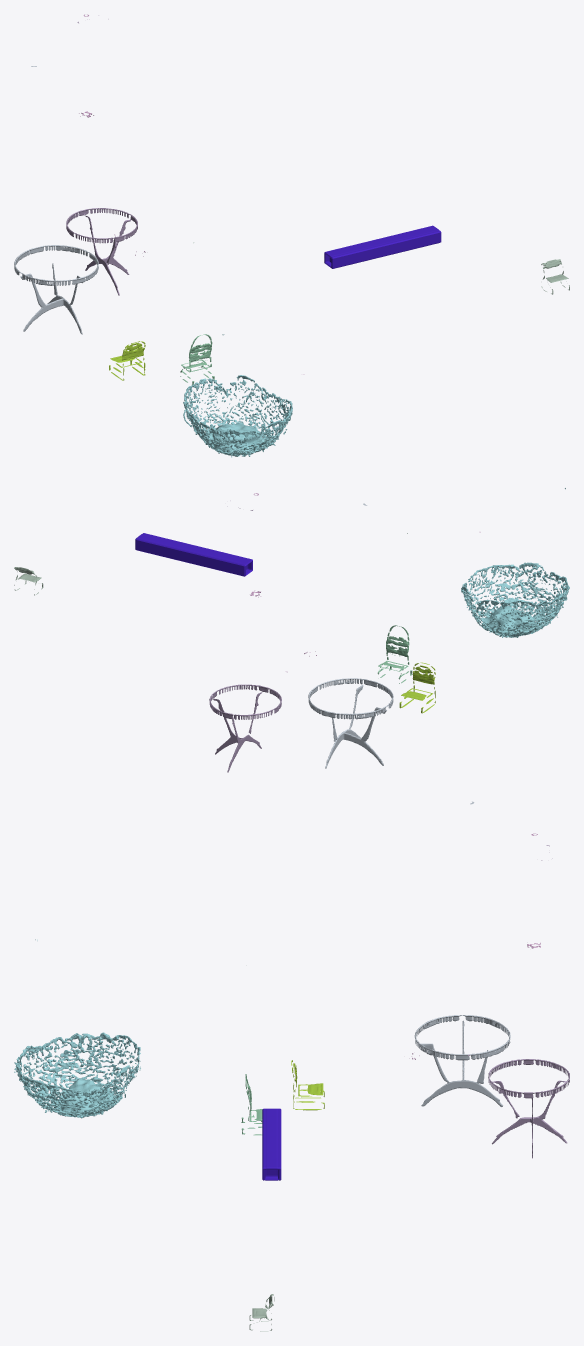
The model's file is PartCrafter-latest.glb.
3 renders of one model, top to bottom at view 1: azimuth 30°, elevation 25°; view 2: azimuth 150°, elevation 25°; view 3: azimuth 270°, elevation 25°, orthographic. The views are drawn at different scales.
Visible parts, largest first — view 1: world; view 2: world; view 3: world.
Part boxes in pixels (x1,y1,x2,y2): world: (14, 14, 569, 457); world: (14, 488, 569, 772); world: (14, 801, 569, 1331).
Size of the model in its own units: 1.9 by 1.09 by 1.79.
